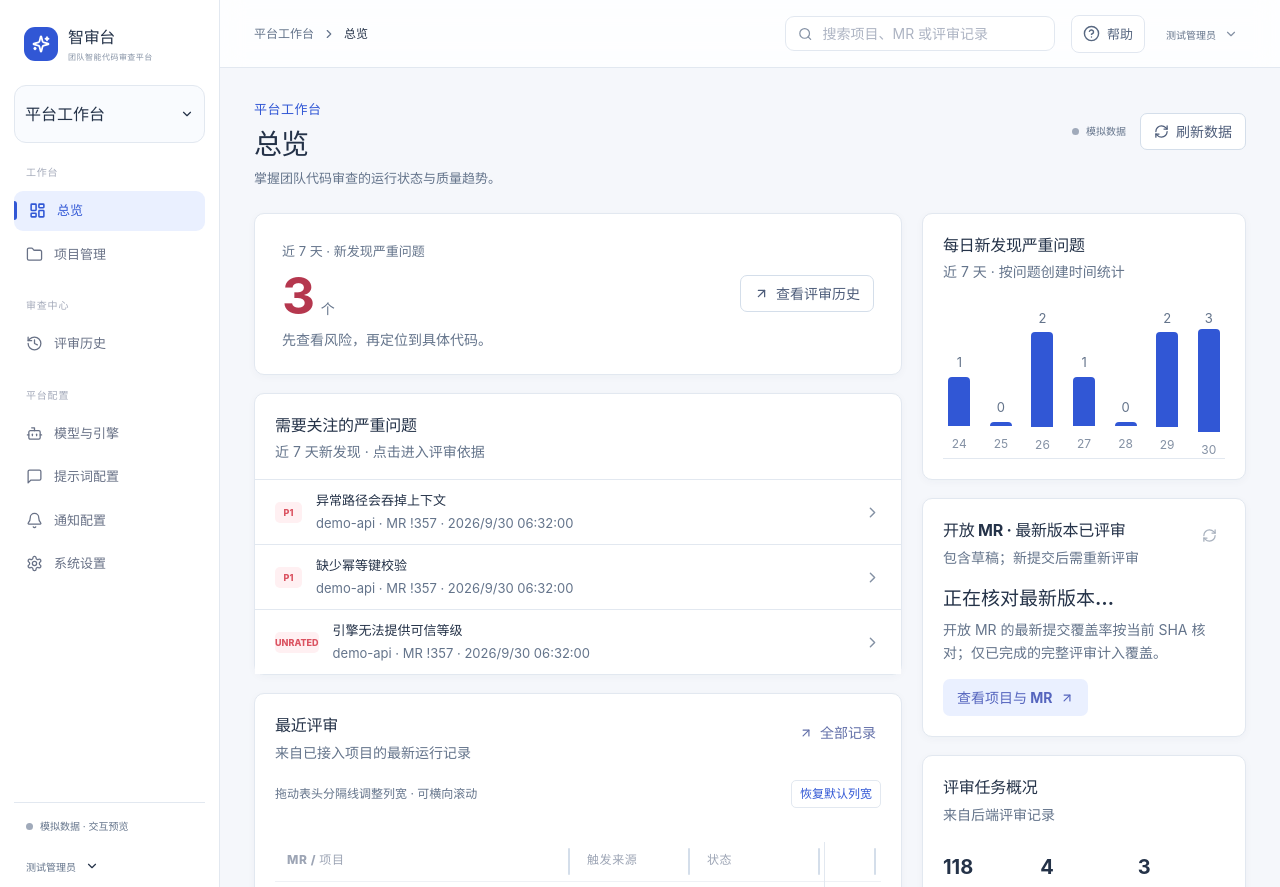
Scenario: opens real membership management only inside the selected project
The width and height of the screenshot is (1280, 887).
Expected: the button "成员权限" is not shown
Click the button with aria-label "切换项目" at (110, 114), box [14,85,205,143]
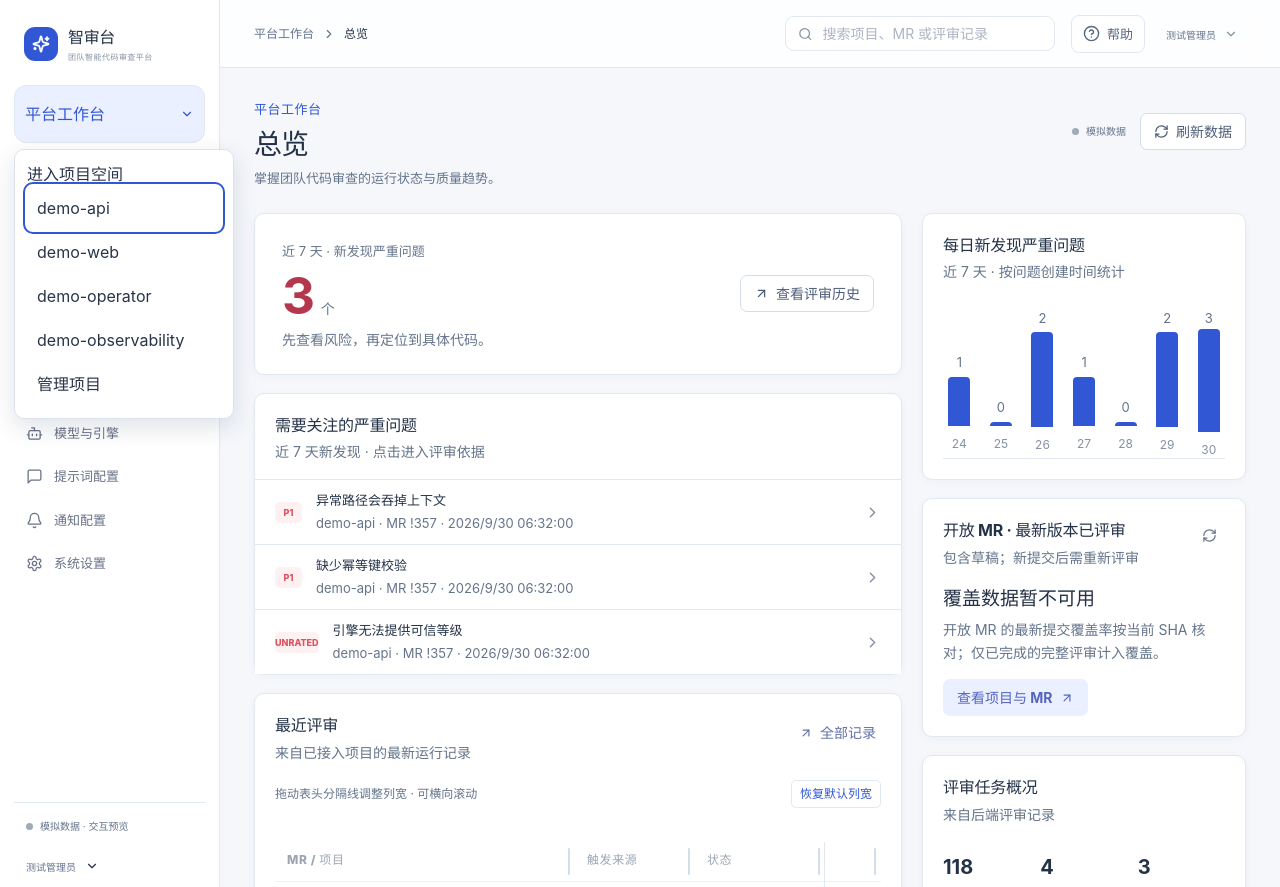
Click the button "demo-api" at (124, 208), box [27,186,221,230]
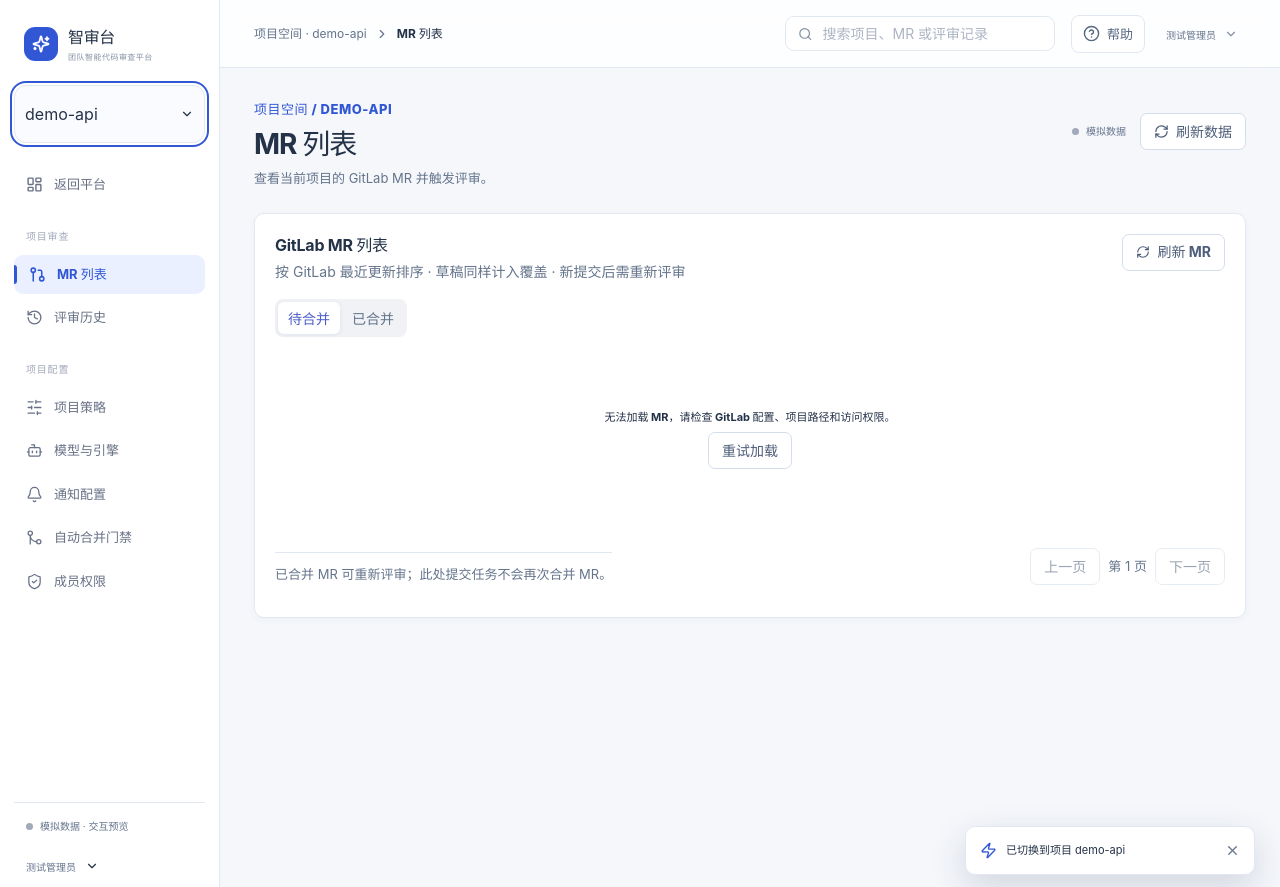
Click the button "成员权限" at (110, 581), box [14,562,205,601]
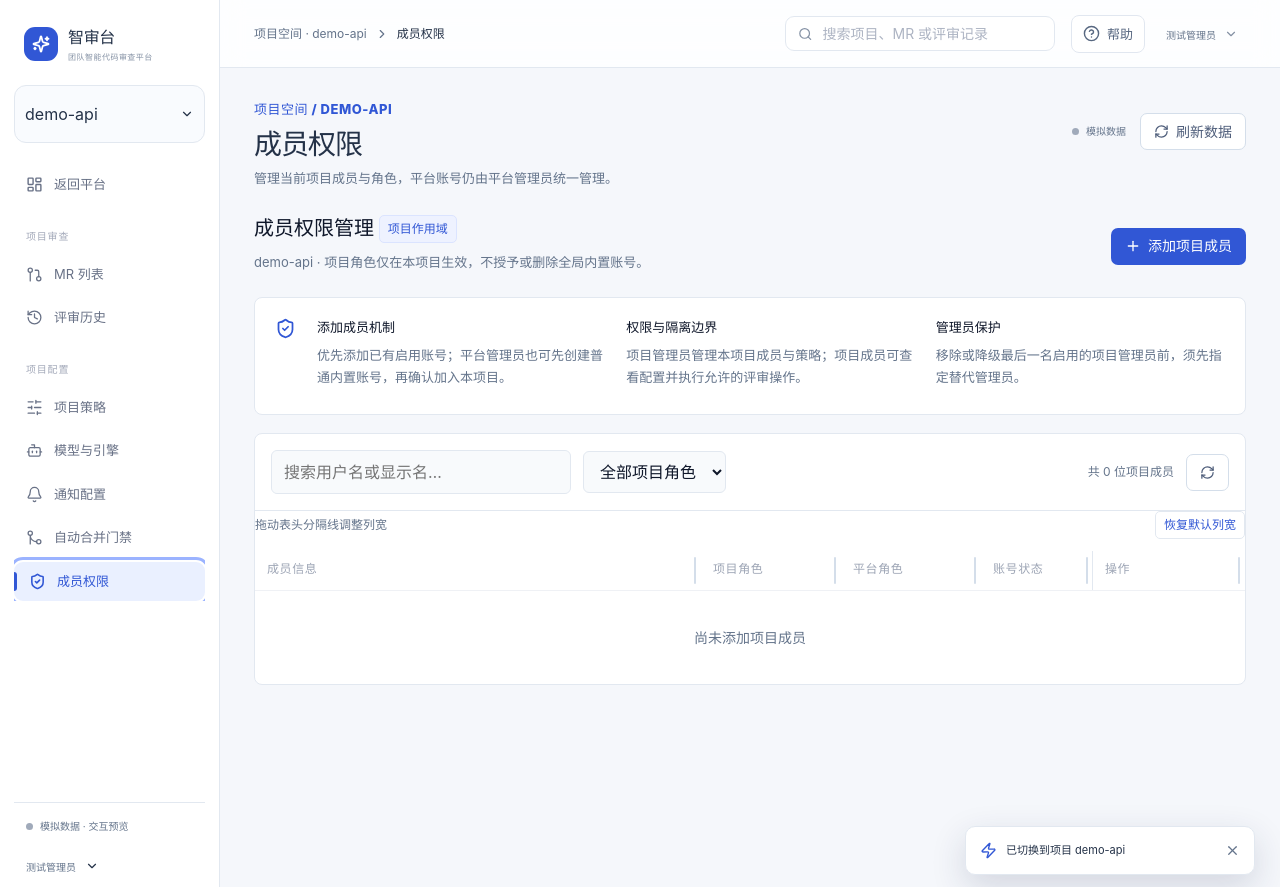
Expected: the text "尚未添加项目成员" is shown, [255,590,1245,684]
